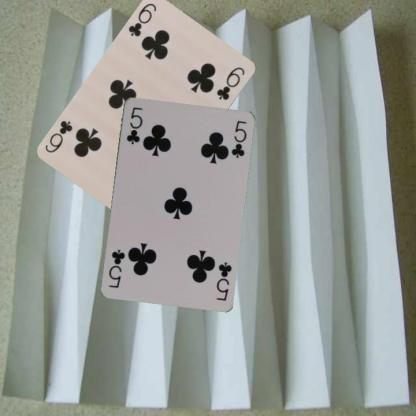5c: (124, 104, 144, 146), (213, 260, 233, 302)
6c: (125, 1, 158, 38)
